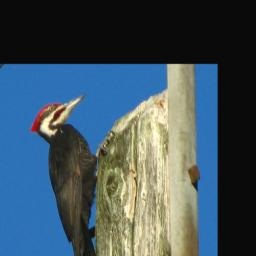Woodpecker: (26, 94, 111, 256)
